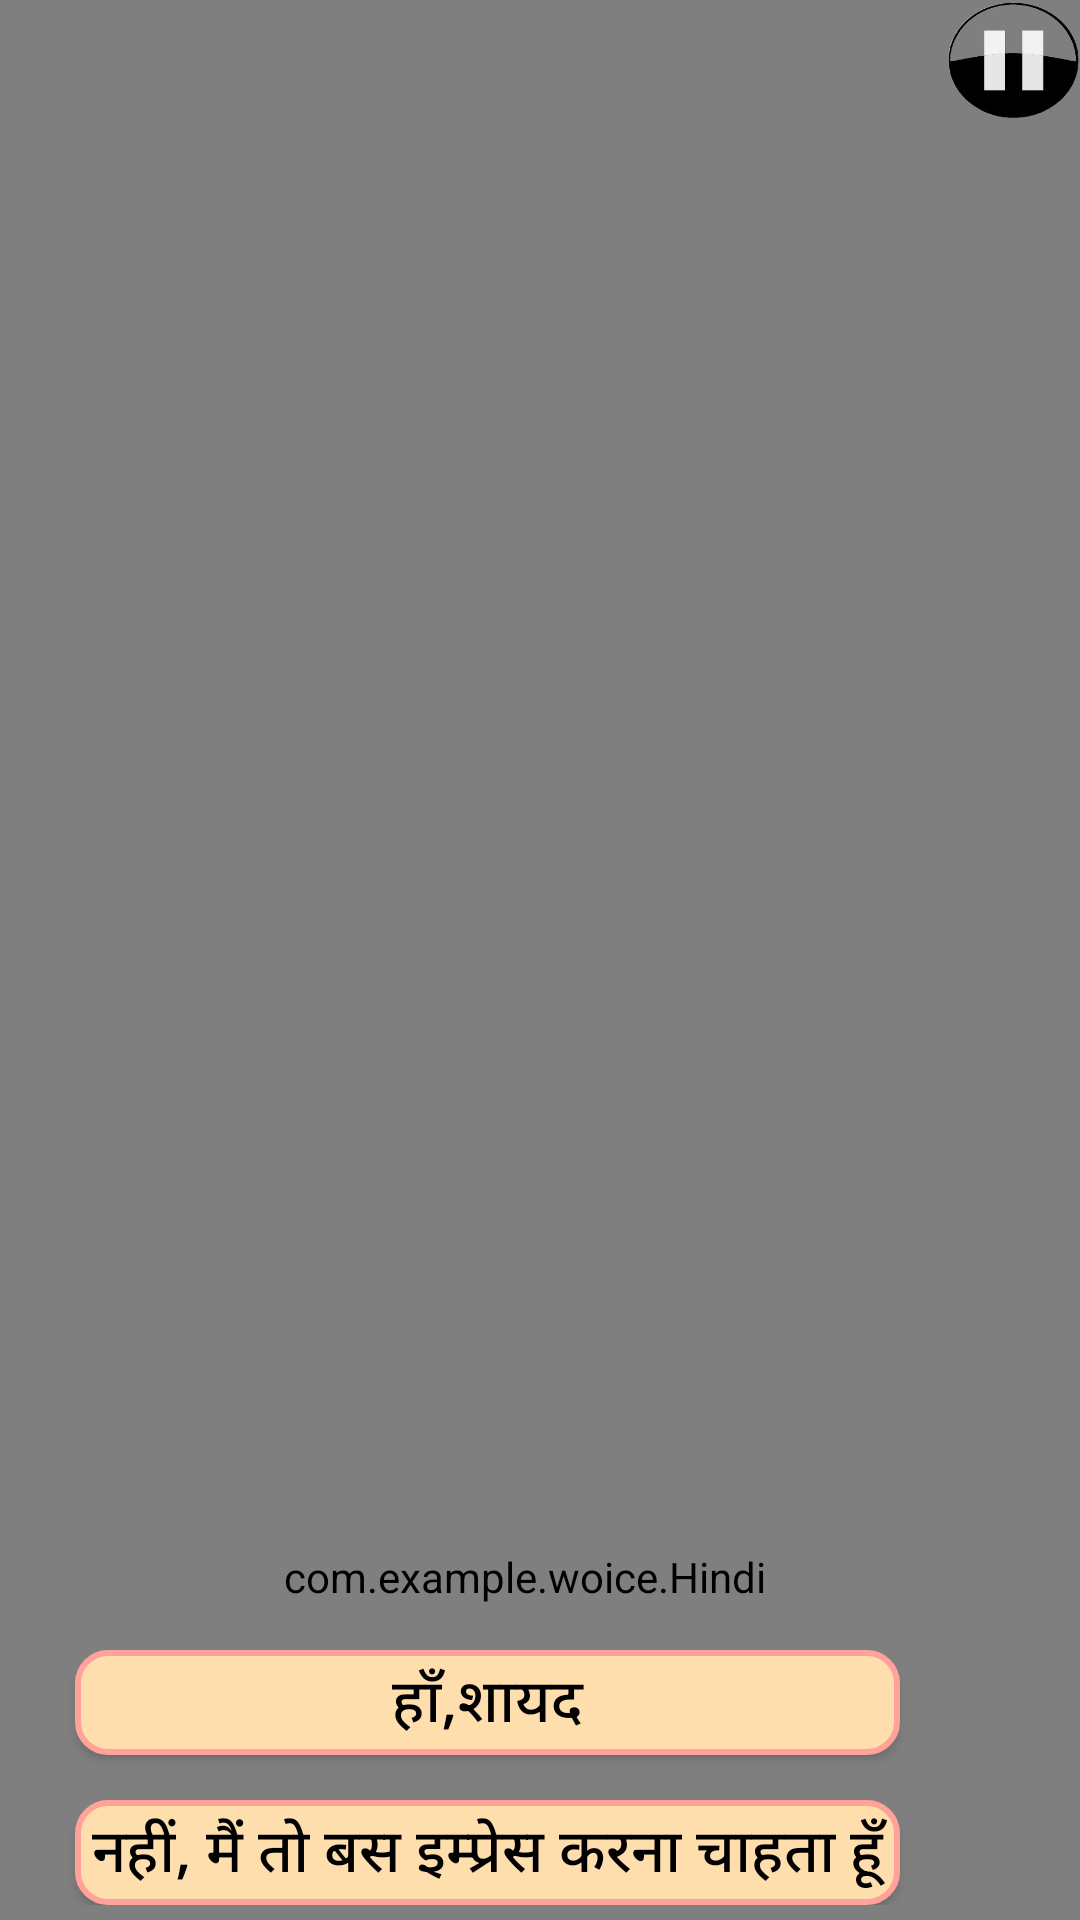

Icons on this 1080 x 1920 Android screen, each with the point to tap as [x,y]:
pauseicon: [1014,60]
